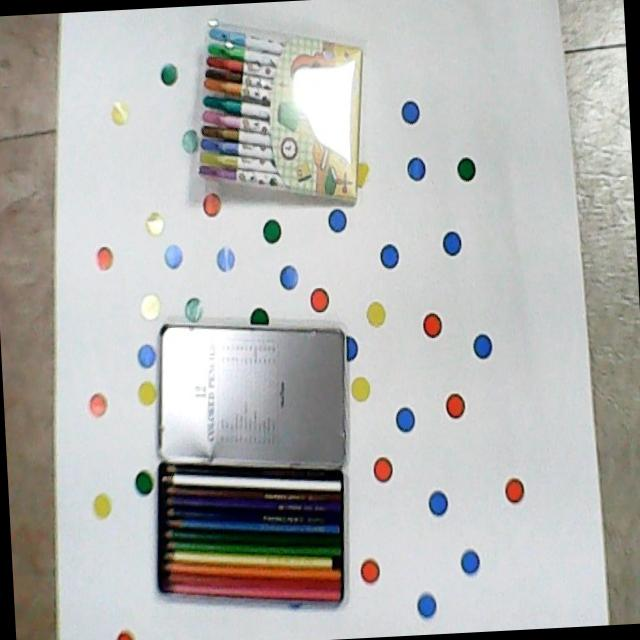color: (146, 455, 350, 620)
signpen: (187, 11, 374, 221)
